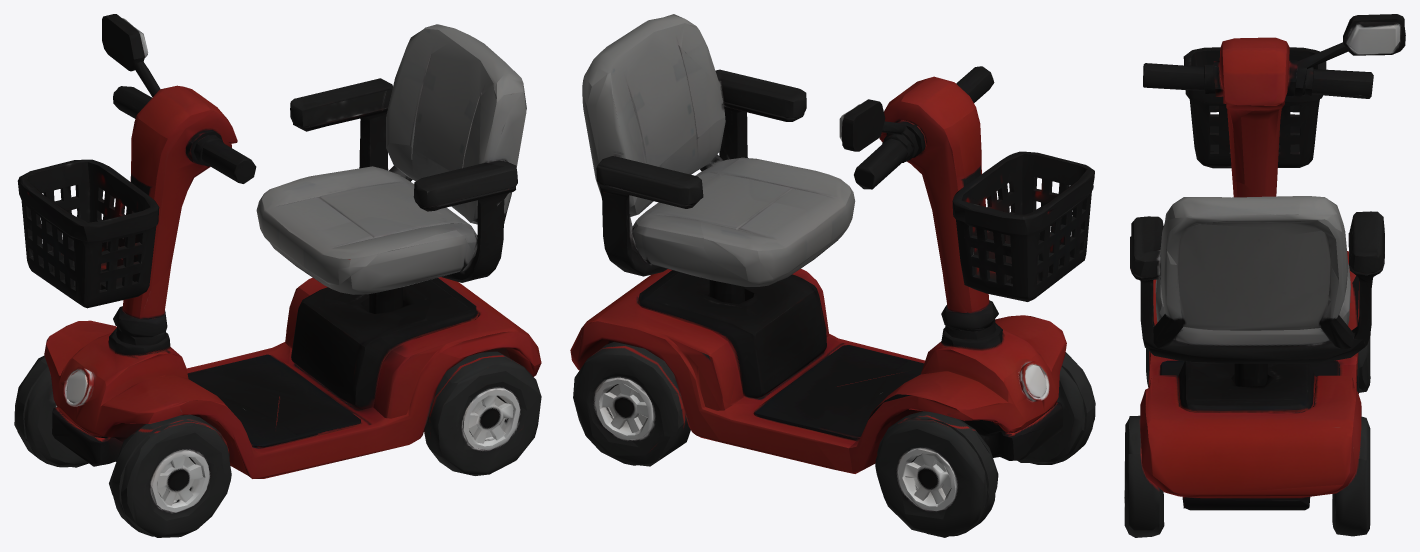
The model's file is Character_Vehicle_Mobility.fbx.
3 views of the same model, side by side, from view 1: azimuth 30°, elevation 25°; view 2: azimuth 150°, elevation 25°; view 3: azimuth 270°, elevation 25° (orthographic). The views are drawn at different scales.
Visible parts, largest first — view 1: Body, Wheel FL, Wheel RL, Wheel FR; view 2: Body, Wheel FR, Wheel RR, Wheel FL; view 3: Body, Wheel RL, Wheel RR, Wheel FR.
Part boxes in pixels (x1=…): Body: x1=17, y1=14, x2=541, y2=478; Wheel FL: x1=109, y1=414, x2=231, y2=537; Wheel RL: x1=424, y1=351, x2=541, y2=475; Wheel FR: x1=14, y1=355, x2=88, y2=467; Body: x1=570, y1=14, x2=1094, y2=473; Wheel FR: x1=875, y1=411, x2=998, y2=537; Wheel RR: x1=573, y1=342, x2=690, y2=466; Wheel FL: x1=1017, y1=352, x2=1095, y2=464; Body: x1=1130, y1=14, x2=1405, y2=510; Wheel RL: x1=1124, y1=415, x2=1164, y2=537; Wheel RR: x1=1332, y1=416, x2=1370, y2=536; Wheel FR: x1=1356, y1=337, x2=1370, y2=393.
Size of the model in its own units: 92.14 by 81.94 by 52.1.
